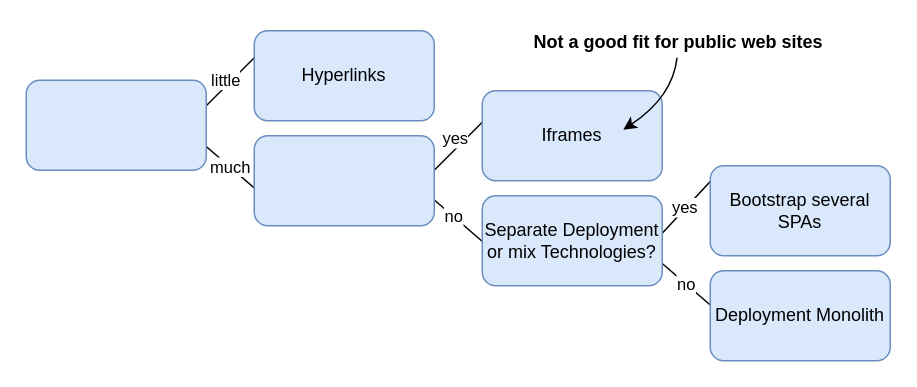
Image size: 917x387. Some labels were removed from this diagram. Here are the shapes that lost their labels. From the top down, the centre of each, then its label:
[115,124]: Shared state, navigation b/w apps
[343,180]: Legacy Apps or *very very* strong isolation?
